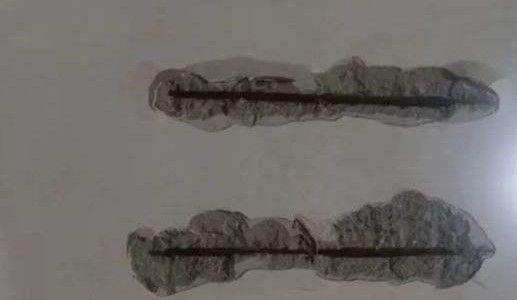Exposed reinforcement: (167, 88, 455, 108), (147, 246, 455, 258)
Spalling: (125, 189, 496, 300), (147, 55, 501, 134)
